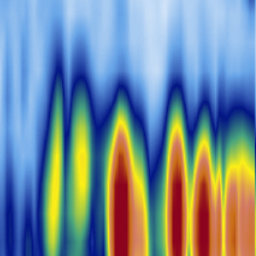defect: (103, 75, 152, 256), (215, 84, 256, 256), (37, 40, 68, 256), (155, 77, 190, 256), (68, 46, 97, 256), (193, 82, 214, 256), (1, 160, 15, 256), (19, 182, 33, 256)
